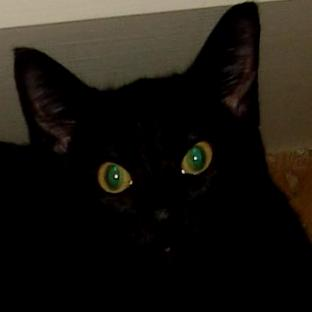Animal: (0, 3, 311, 311)
